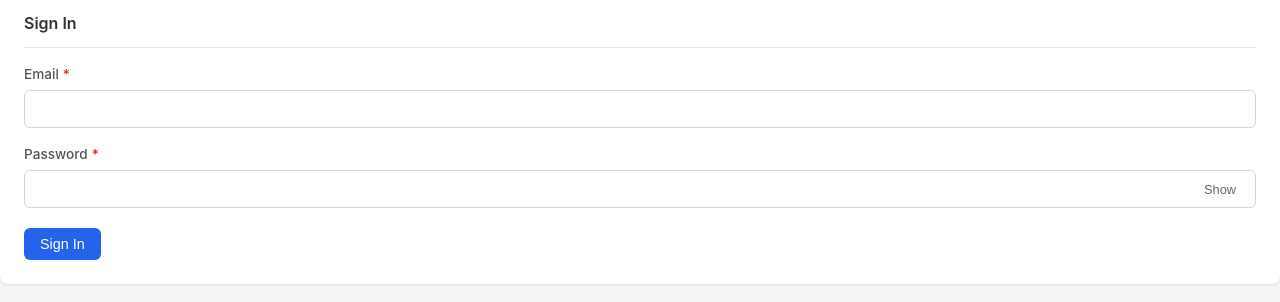
Test case: LoginForm › disables button while submitting
In the field labelled "Email*": (640, 109) 24,90 -> 1256,128, type "test@example.com"
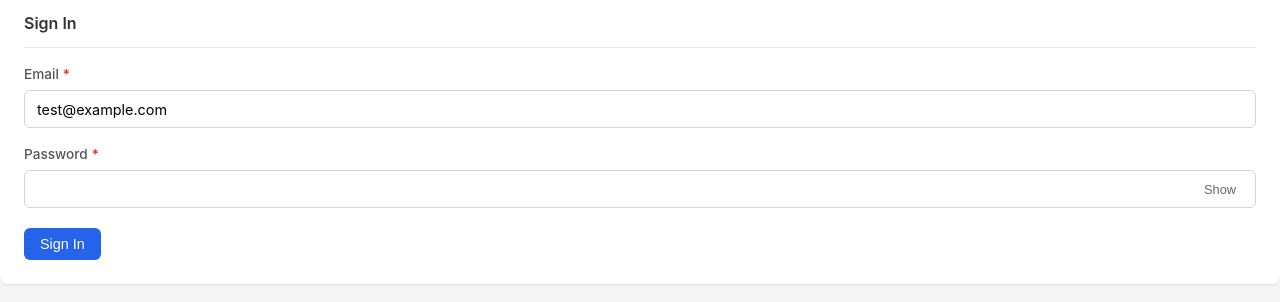
In the password field labelled "Password*": (640, 189) 24,170 -> 1256,208, type "Password123"
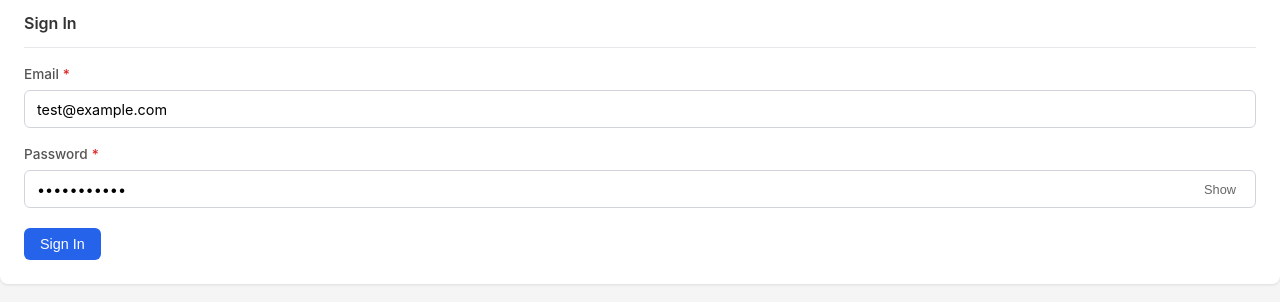
Click the button "Sign In": (62, 244) 24,228 -> 101,260
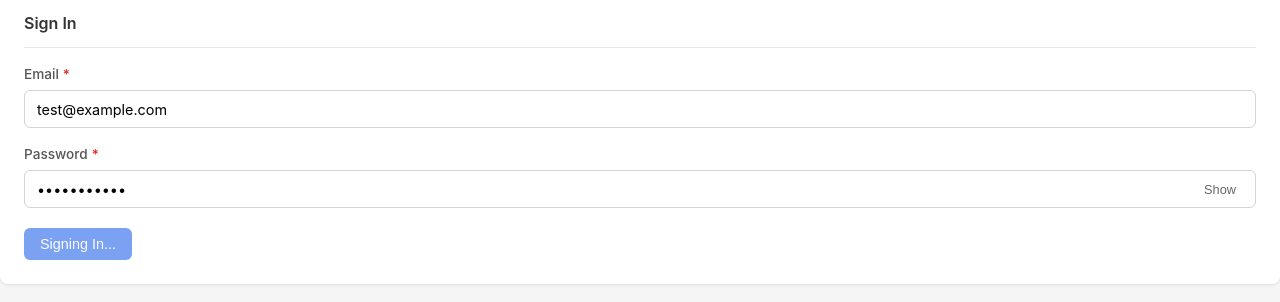
Now the button "Signing In..." is disabled, box 24,228 -> 132,260
